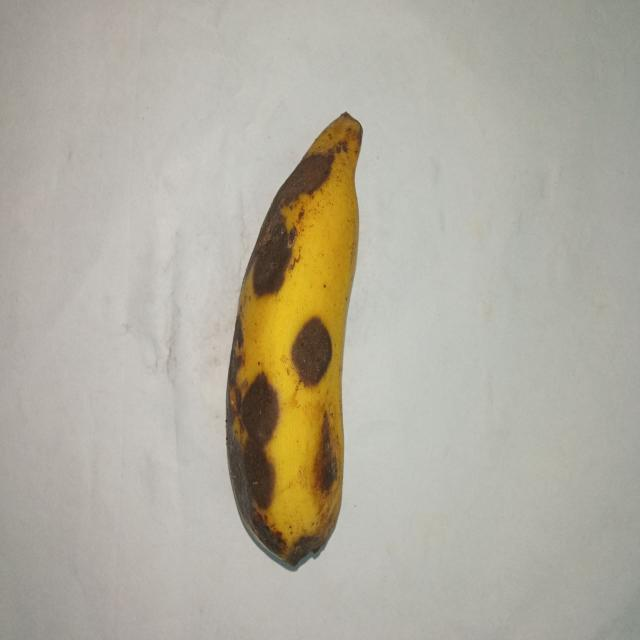rotten_banana: (226, 111, 360, 569)
